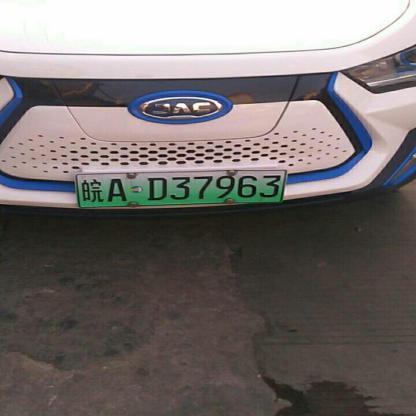lp: (77, 168, 284, 206)
